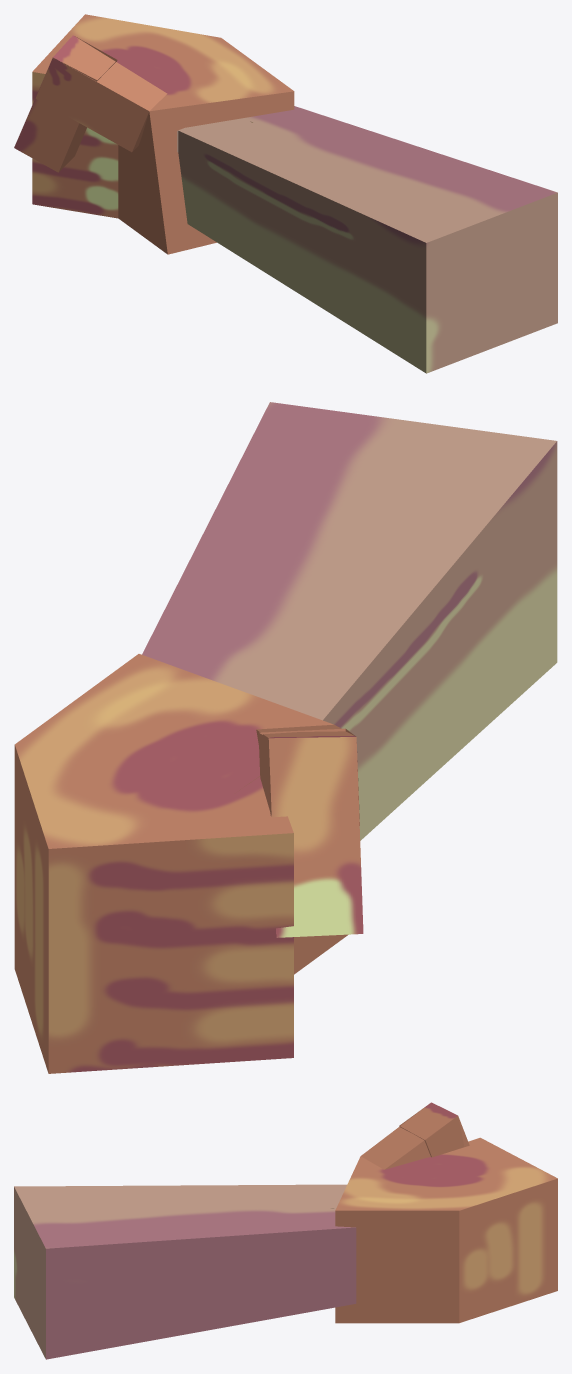
The model's file is hand.glb.
3 renders of one model, top to bottom at view 1: azimuth 30°, elevation 25°; view 2: azimuth 150°, elevation 25°; view 3: azimuth 270°, elevation 25°, orthographic. The views are drawn at different scales.
Visible parts, largest first — view 1: Cube; view 2: Cube; view 3: Cube.
Part boxes in pixels (box(x1,y1,x2,y2)): Cube: box(14, 14, 557, 373); Cube: box(14, 402, 557, 1073); Cube: box(14, 1102, 557, 1359).
Size of the model in its own units: 4.73 by 2.6 by 8.77.
2 materials, 2 textured.
